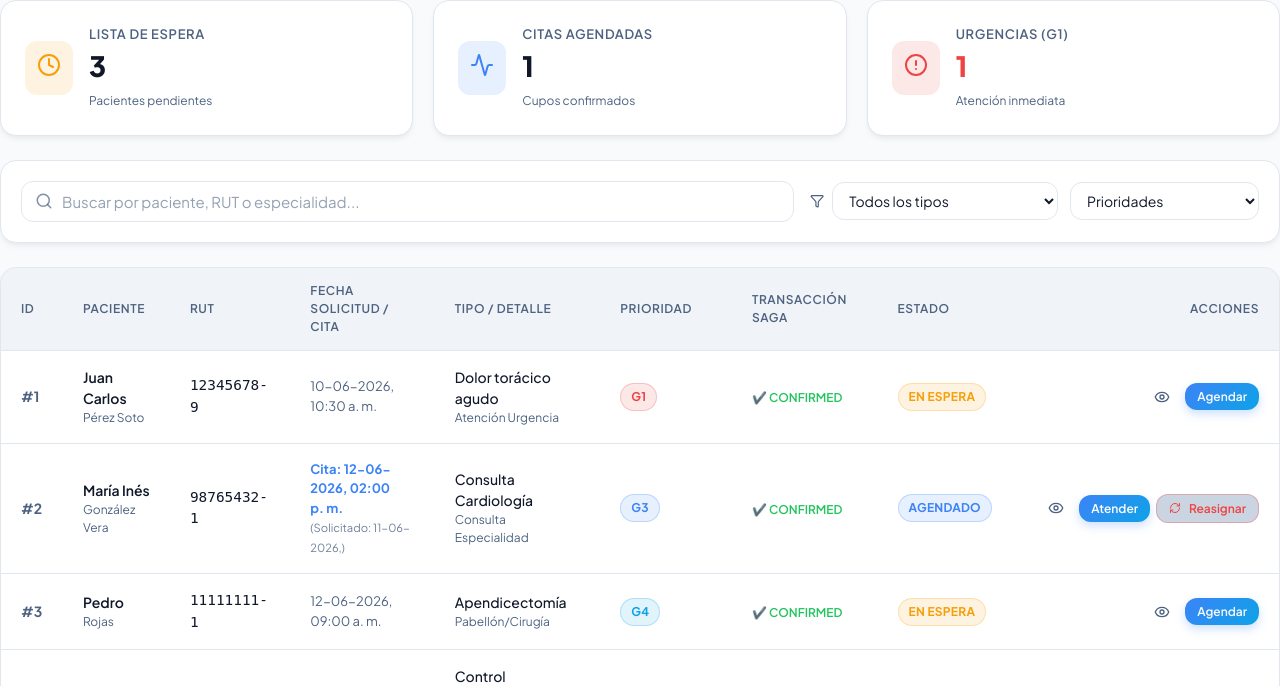
Scenario: ListaEsperaTable › debe mostrar el mensaje de no registros cuando no coincide la búsqueda
In the field with placeholder "Buscar por paciente, RUT o especialidad...": coordinates (408, 201) [21,180,794,222], type "RUTInexistente999"
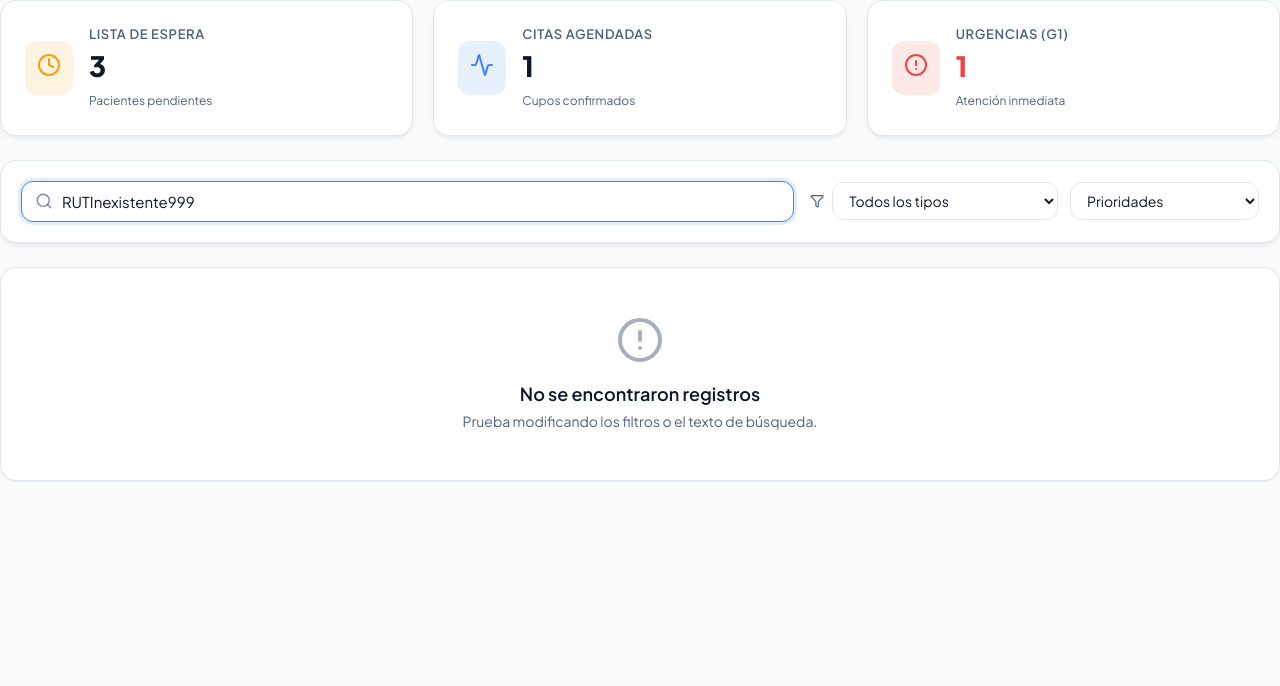
Check: the heading "No se encontraron registros" is shown, box [520,382,760,404]
